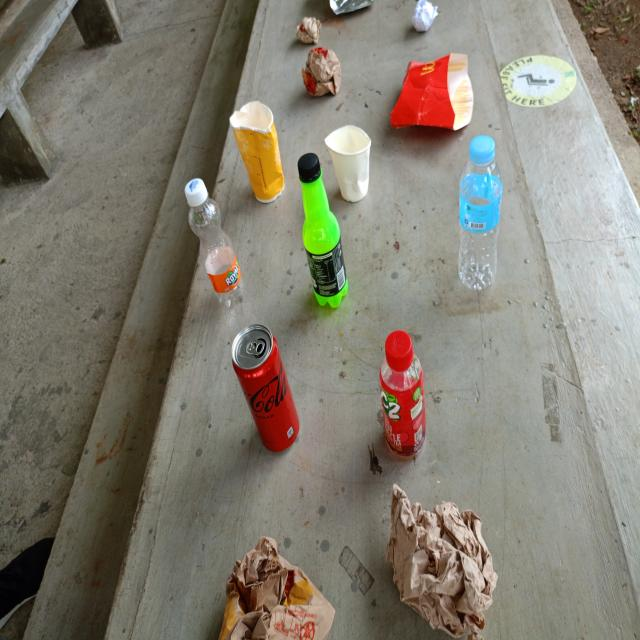Anorganik: (228, 324, 303, 457), (294, 148, 351, 310), (183, 174, 246, 311), (457, 136, 504, 292), (376, 328, 428, 460)
Organik: (388, 477, 500, 640), (215, 531, 336, 640), (388, 52, 475, 134), (226, 96, 287, 205), (322, 121, 373, 202), (301, 45, 342, 101), (293, 13, 322, 46), (409, 0, 438, 29)
